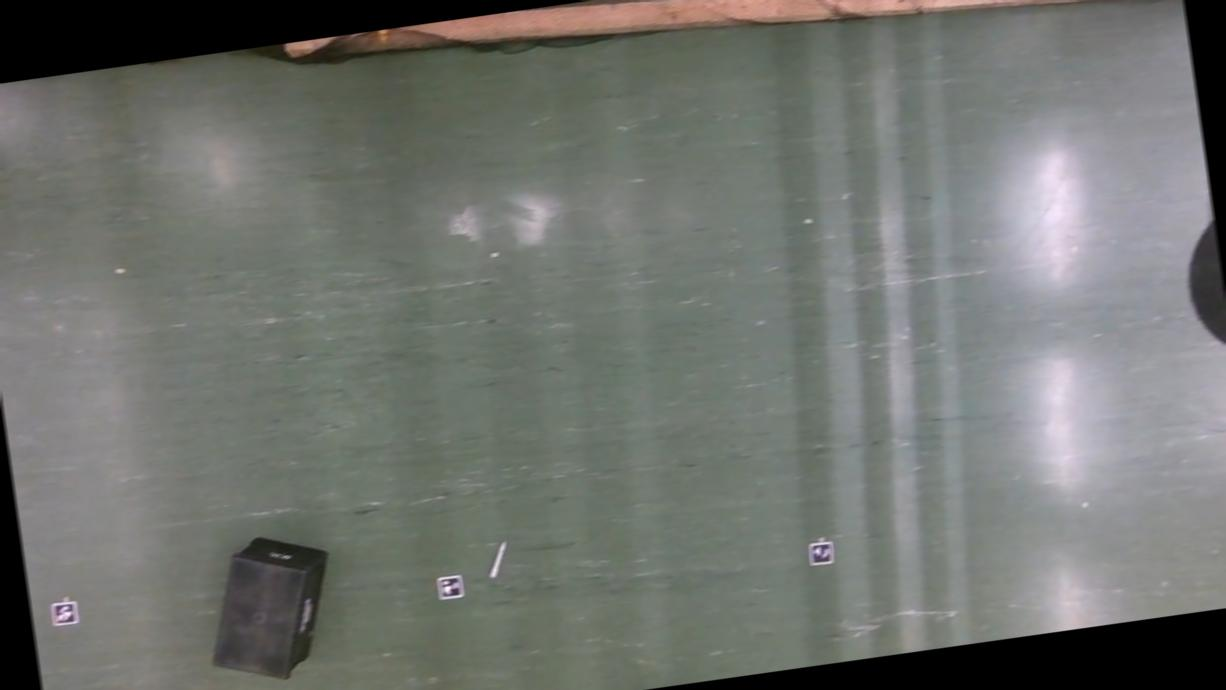probes: (488, 540, 512, 576)
rako: (195, 525, 343, 686)
